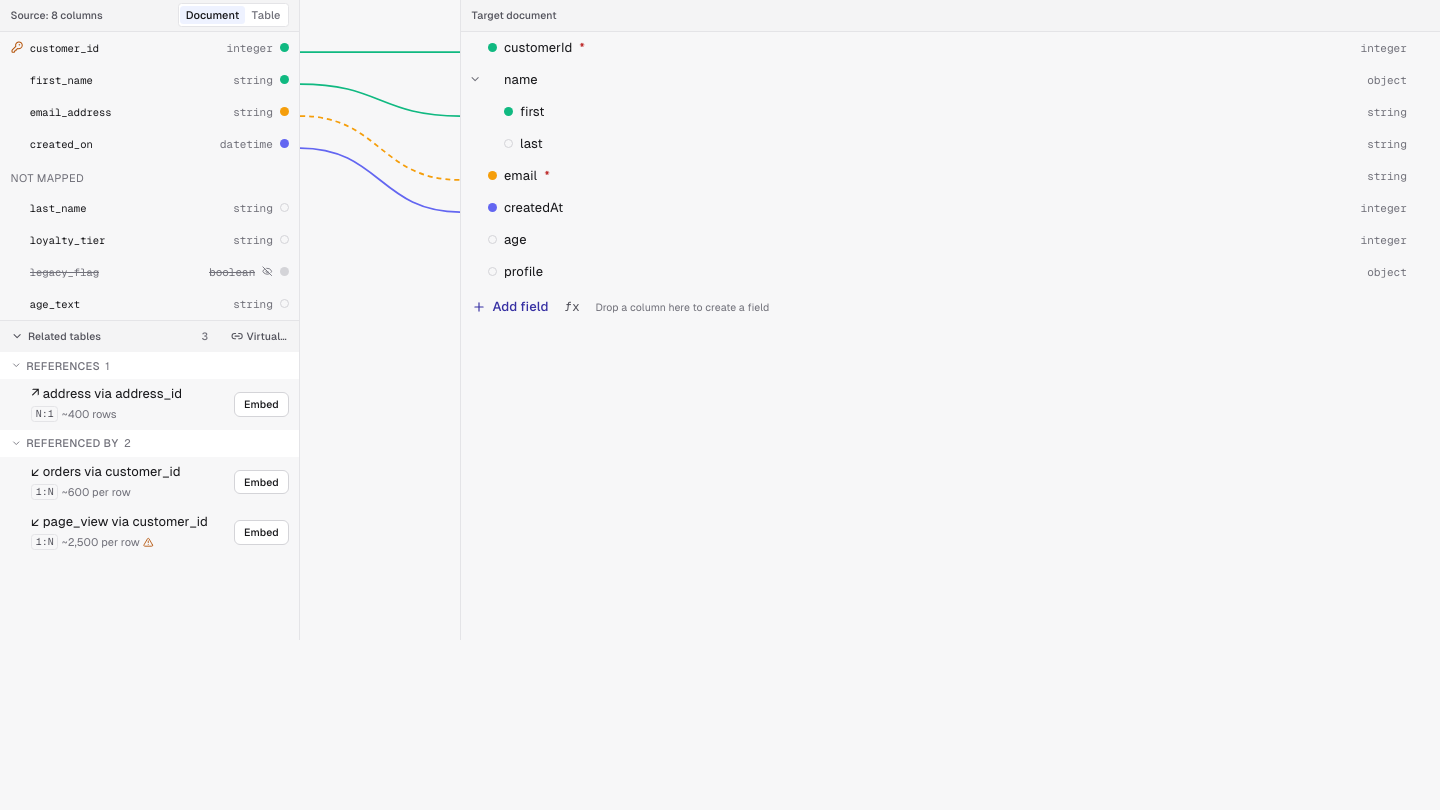
Test: EmbedDialog › many-to-one has no array options; errors stay in the dialog
Click the button "Embed" next to "↗ address via address_id". click: (261, 404)
box: [234,392,288,416]
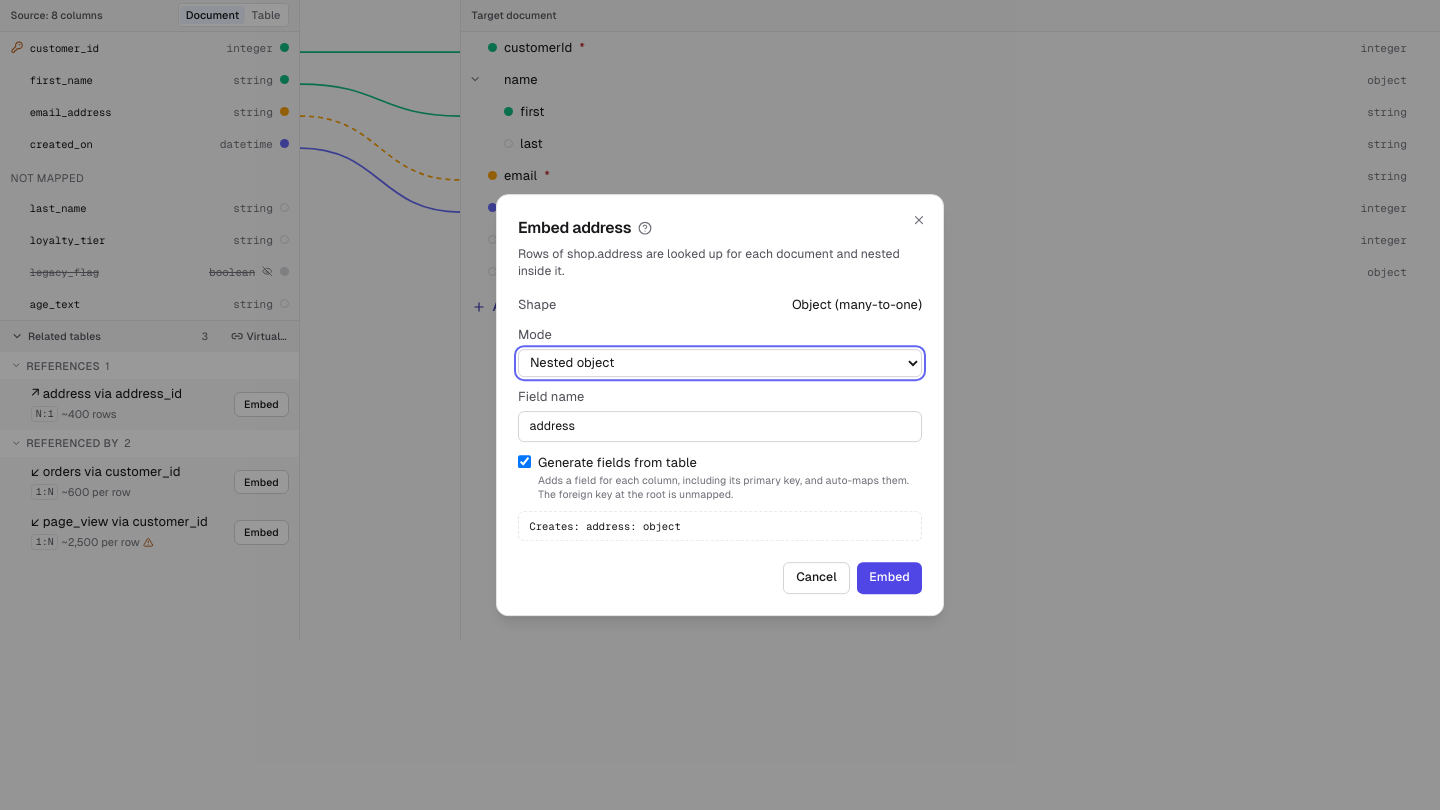
Expected: the dialog "Embed address" is shown, [496,194,944,616]
Expected: the text "Object (many-to-one)" is shown, [792,295,922,315]
Click the button "Embed". click: (890, 578)
box: [857,562,922,594]
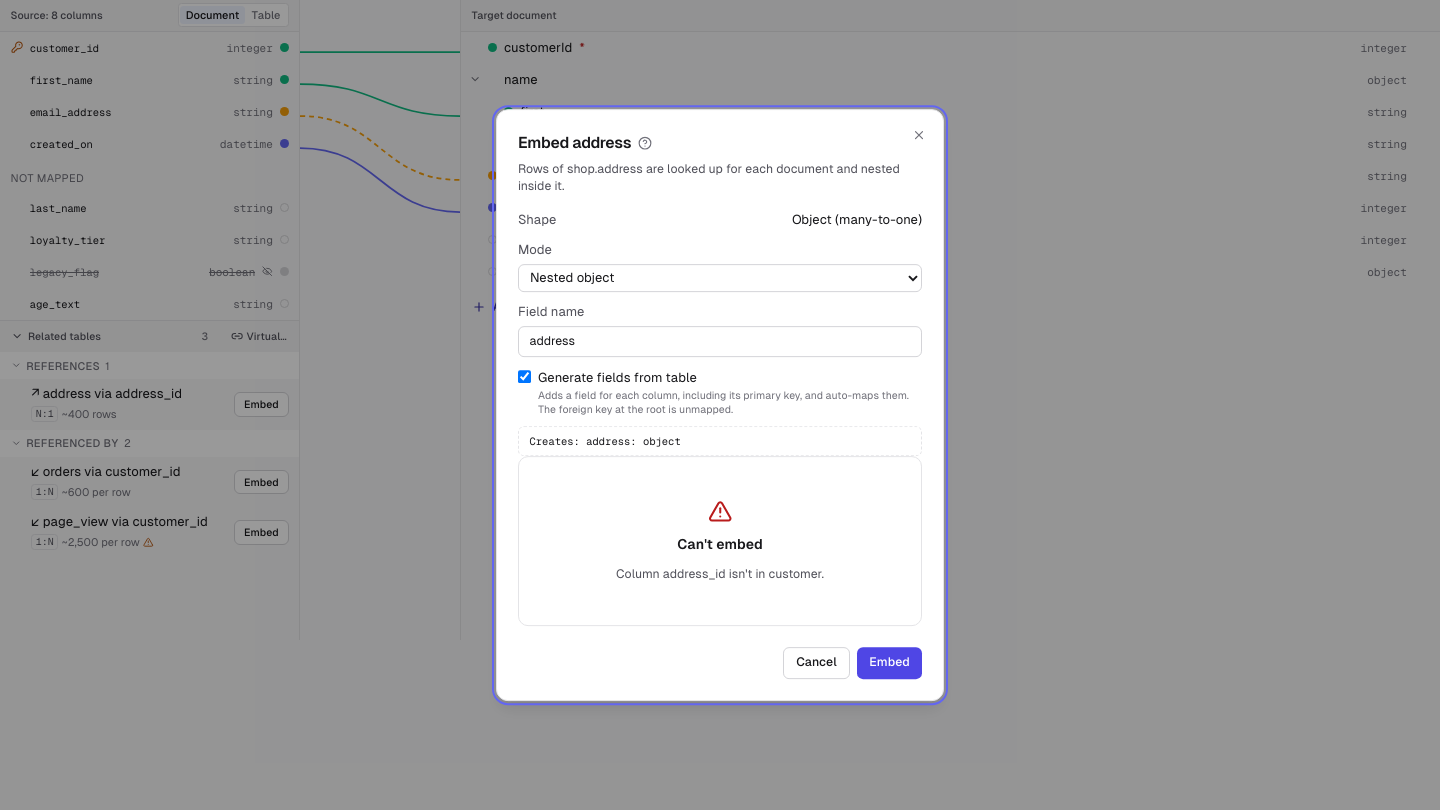
Expected: the dialog is shown, [496,109,944,701]
Expected: the text "Column address_id isn't in customer." is shown, [616,566,824,583]
